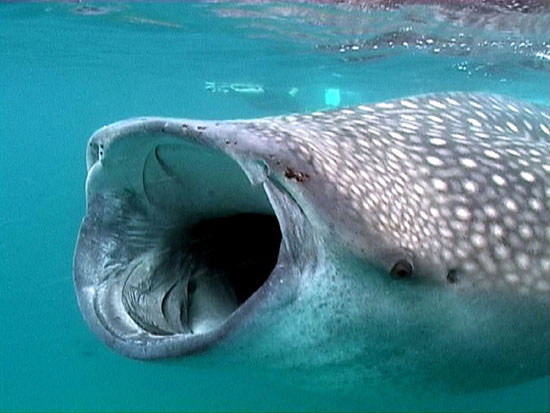Rhincodon_typusw: (54, 79, 550, 388)
